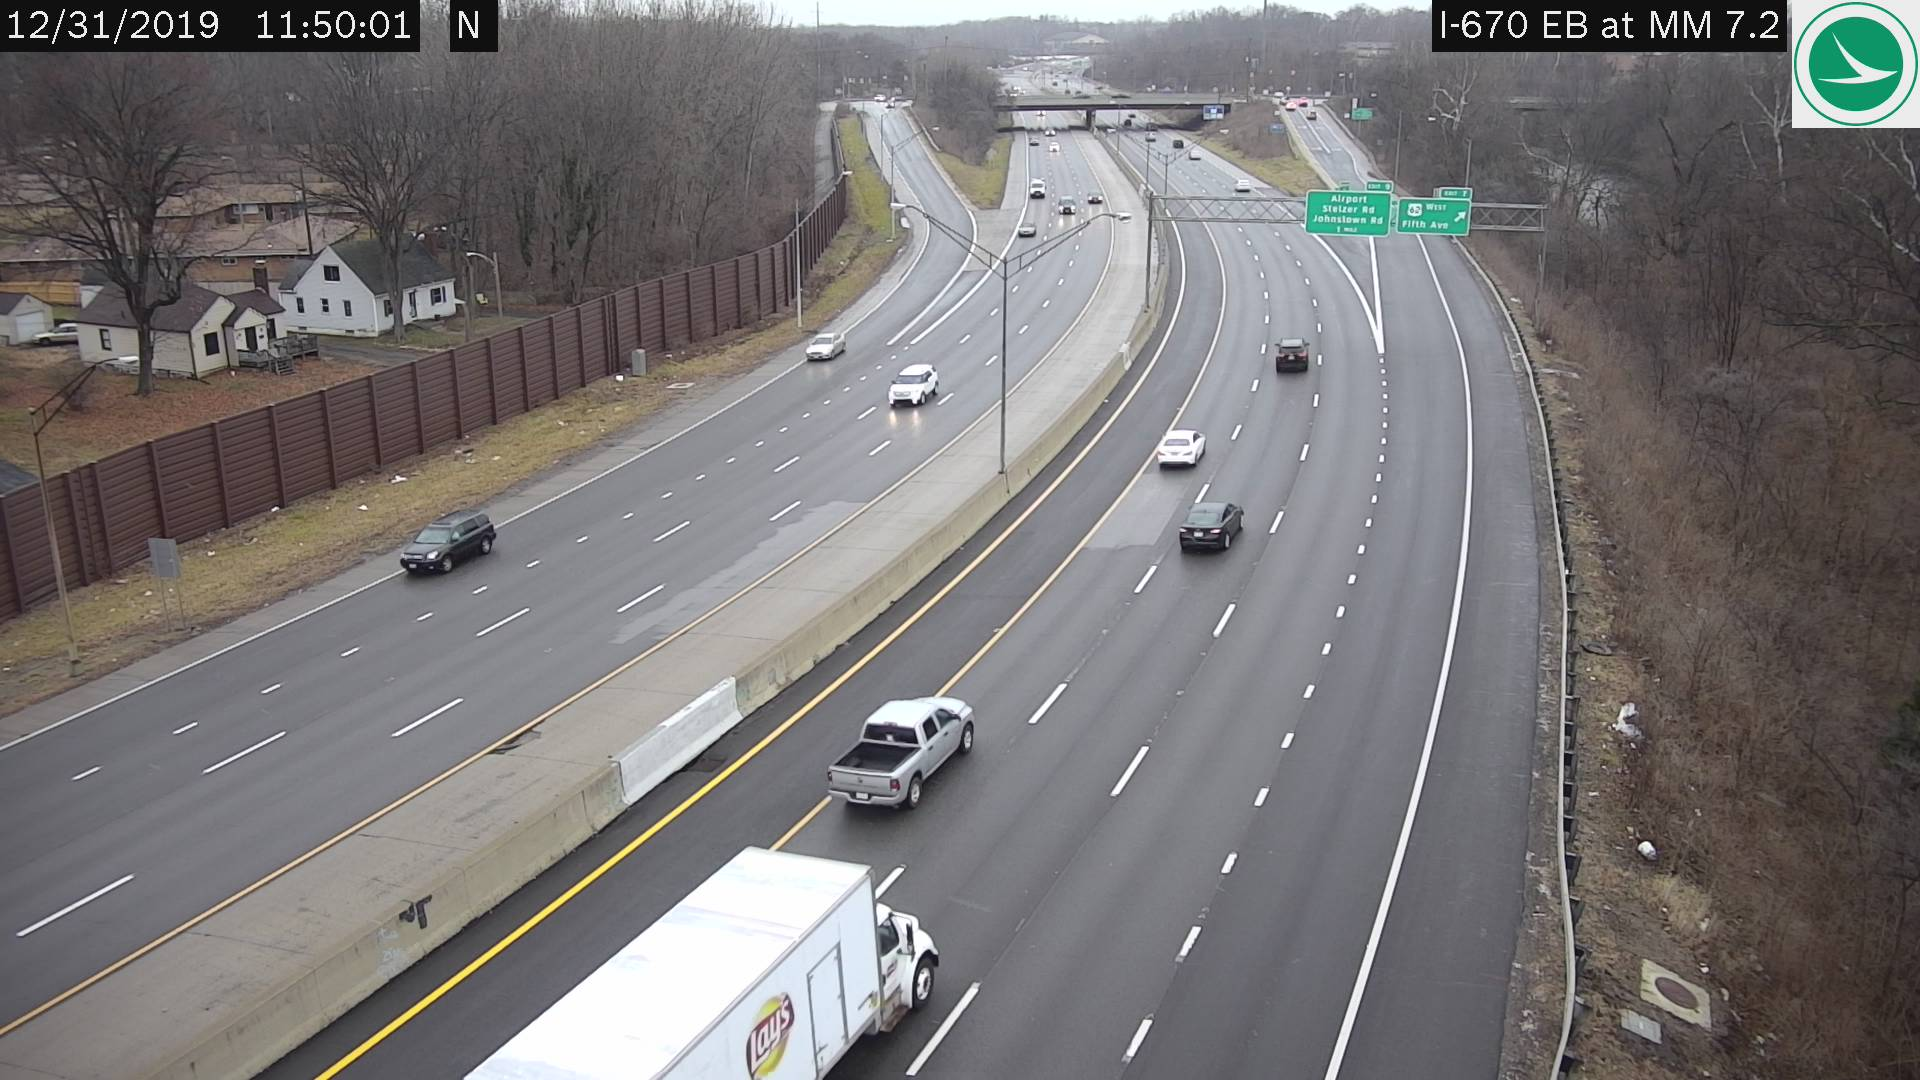car: (458, 844, 938, 1076), (825, 696, 975, 808), (394, 504, 495, 576), (1178, 500, 1242, 553), (886, 360, 938, 407), (1154, 429, 1203, 468), (1274, 336, 1305, 372), (806, 332, 843, 356)
